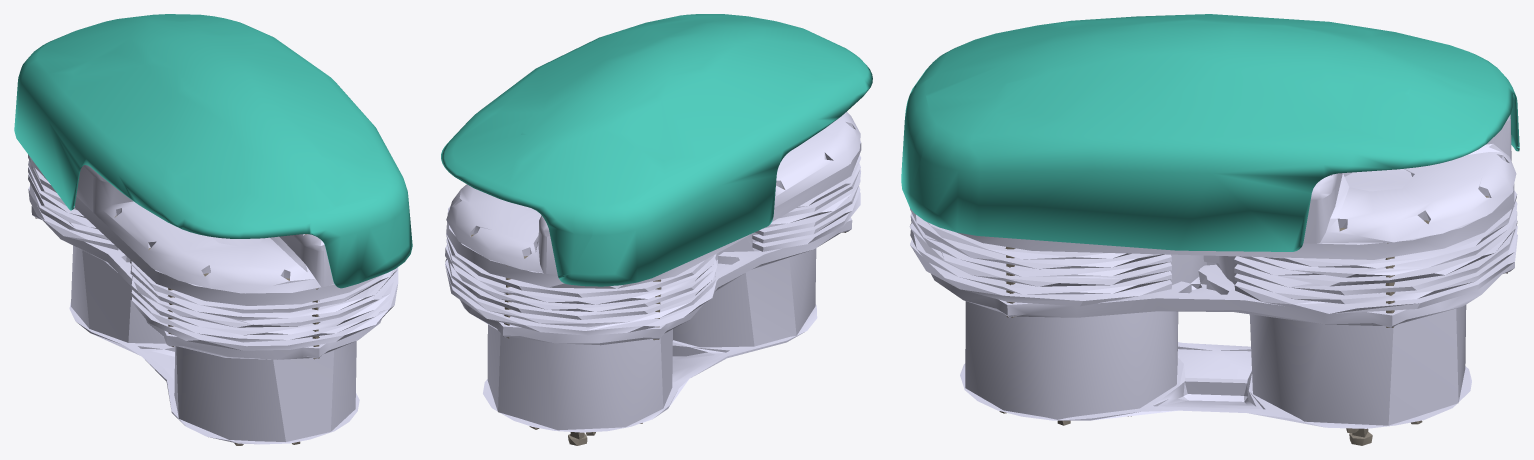
File: right-hip-pitch.obj
3 views of the same model, side by side, from view 1: azimuth 30°, elevation 25°; view 2: azimuth 150°, elevation 25°; view 3: azimuth 270°, elevation 25° (orthographic). The views are drawn at different scales.
Parts seen in each view (by area): view 1: right_hip_pitch; view 2: right_hip_pitch; view 3: right_hip_pitch.
Part boxes in pixels (x1,y1,x2,y2): right_hip_pitch: [14, 14, 412, 445]; right_hip_pitch: [441, 14, 872, 445]; right_hip_pitch: [901, 14, 1519, 445].
Bounding box in the file's own units: 0.1504 × 0.1821 × 0.2567.
1 material, 1 textured.
